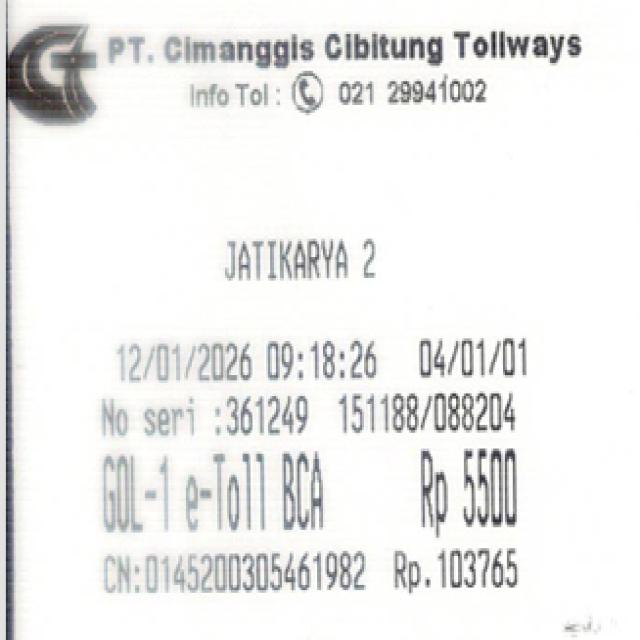date: (112, 334, 376, 389)
store: (83, 25, 587, 64)
total: (407, 446, 523, 534)
